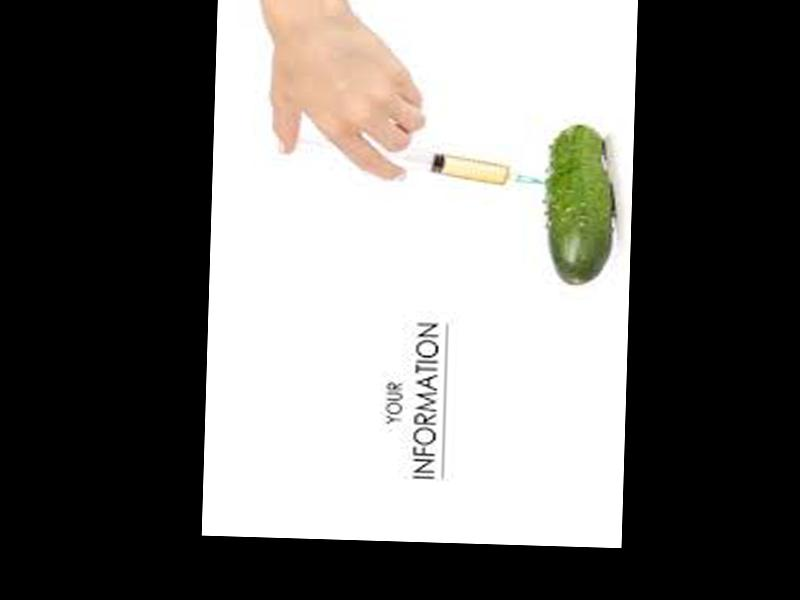Cucumber: (542, 122, 612, 285)
